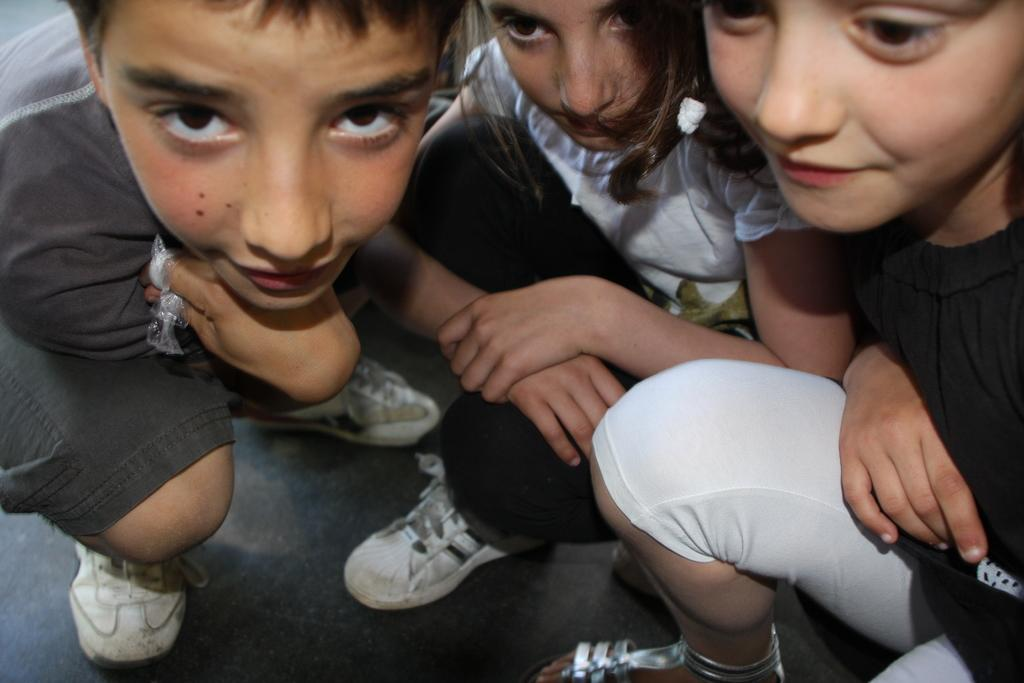Sem Máscara: (92, 0, 441, 309), (701, 0, 1022, 229), (480, 0, 658, 149)
